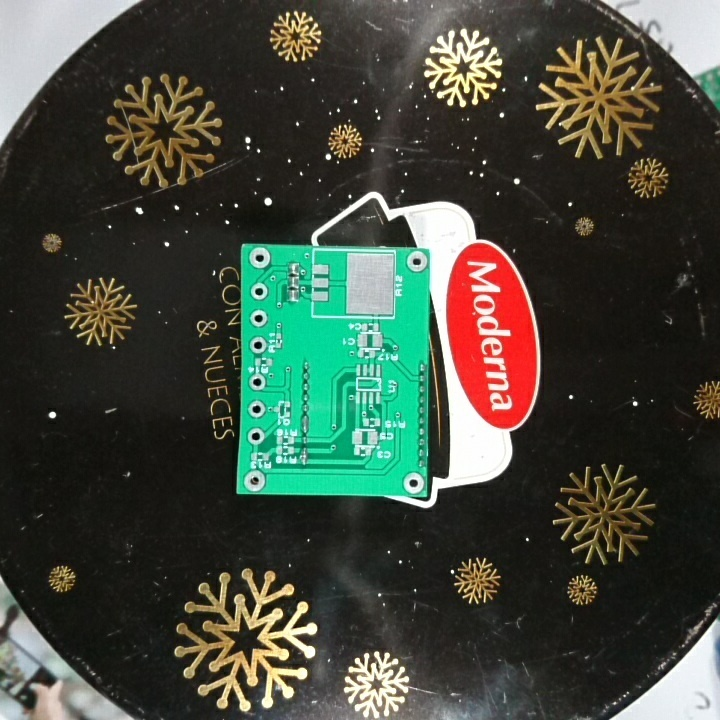F: (241, 468, 269, 493), (404, 250, 430, 275), (248, 246, 274, 271), (401, 470, 425, 495), (248, 308, 271, 331), (245, 425, 268, 448), (248, 371, 268, 395), (248, 280, 268, 303), (248, 333, 266, 357), (247, 397, 266, 419)
P: (298, 412, 311, 435), (298, 445, 310, 467)
